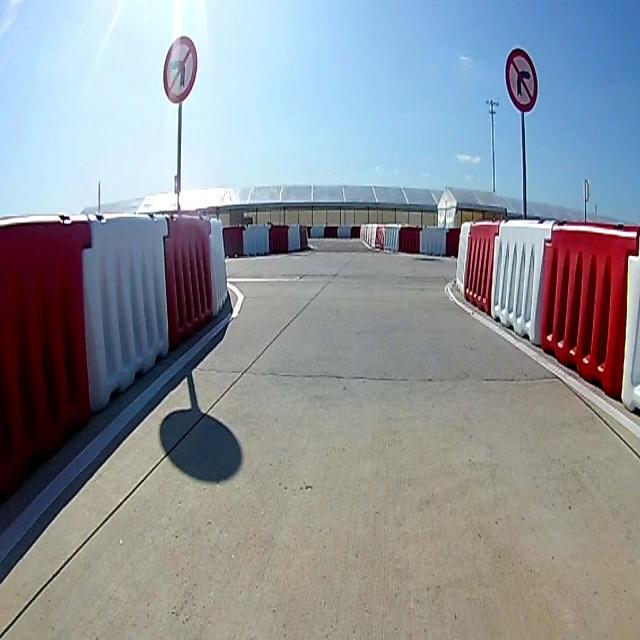sagadonulmez: (504, 48, 538, 112)
soladonulmez: (163, 37, 195, 102)
